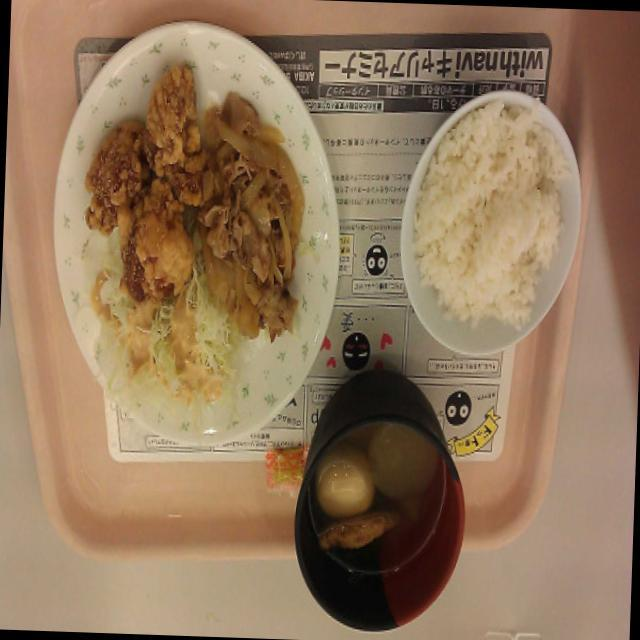Rice: (410, 99, 570, 332)
